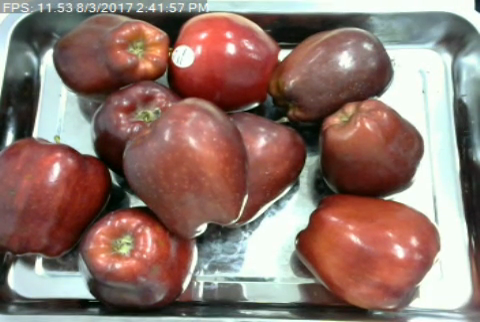Apple: (119, 94, 250, 241), (292, 191, 443, 313), (0, 133, 113, 260), (265, 23, 397, 127), (78, 203, 200, 311), (166, 9, 281, 114), (315, 95, 426, 197), (50, 7, 172, 98), (224, 107, 307, 226), (87, 79, 184, 179)
